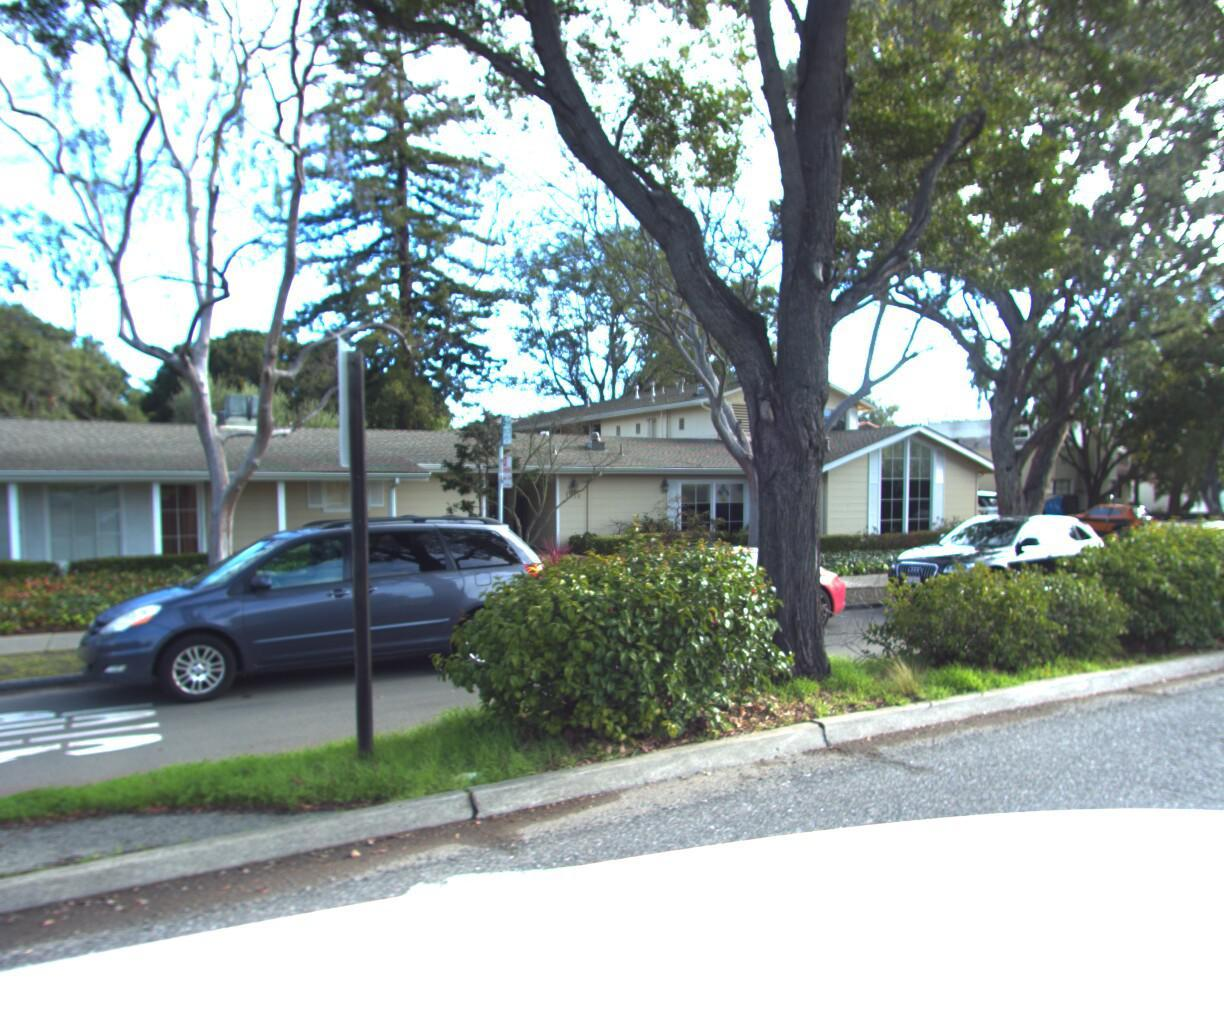car: (55, 498, 582, 728), (542, 524, 877, 663), (870, 501, 1138, 622), (1083, 510, 1224, 604), (889, 481, 1027, 538), (1048, 495, 1169, 543), (1205, 488, 1224, 526)
